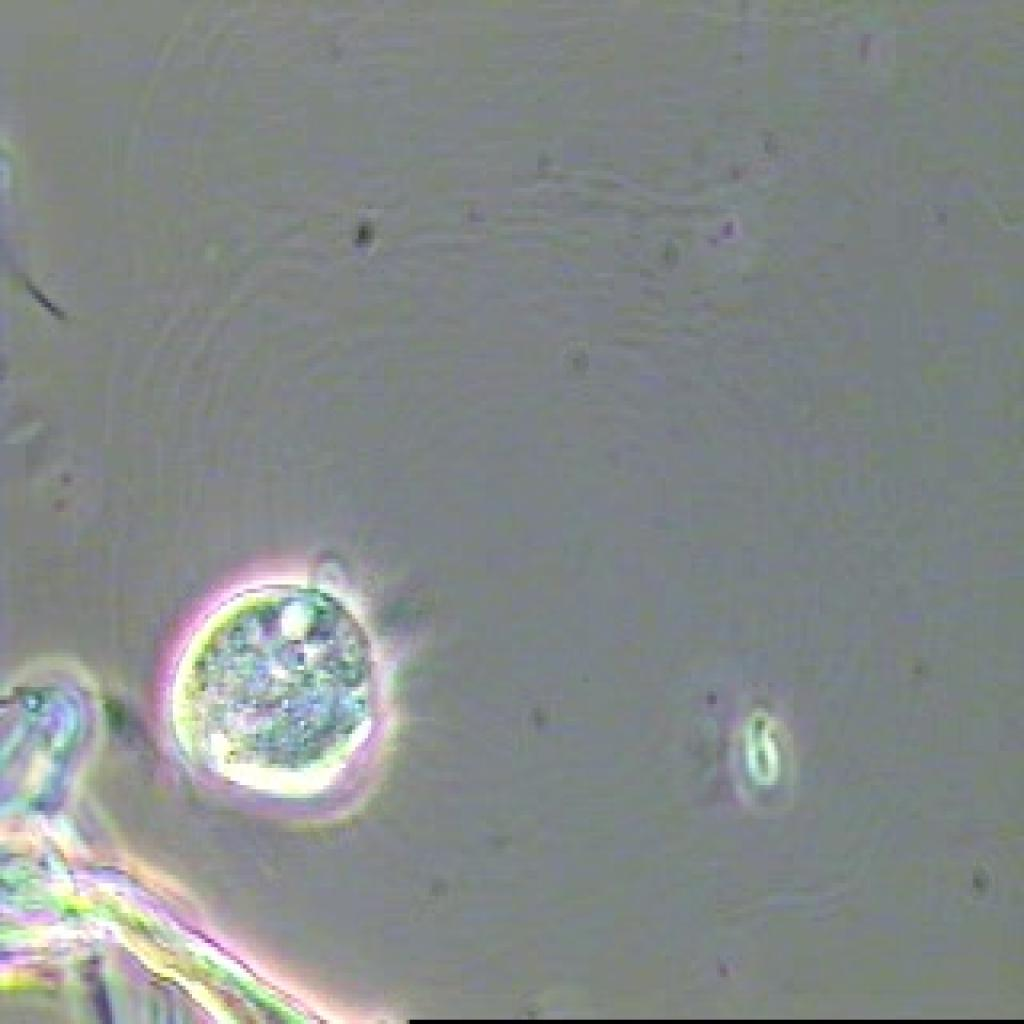Aspidisca: (131, 540, 464, 838)
